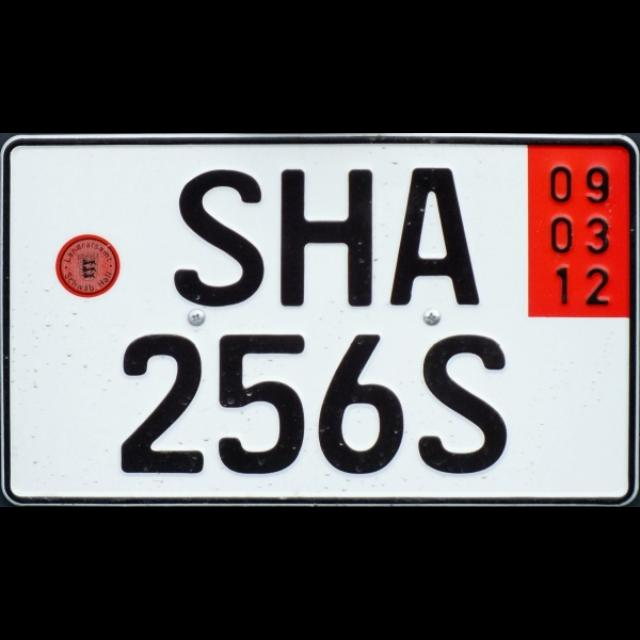d_license_plate: (6, 140, 632, 500)
